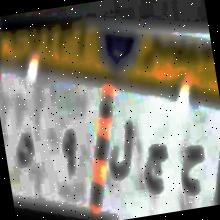5: (10, 119, 40, 184)
7aa: (174, 134, 212, 204)
9: (56, 122, 84, 184)
jeem: (137, 133, 173, 203)
laam: (100, 98, 142, 196)
